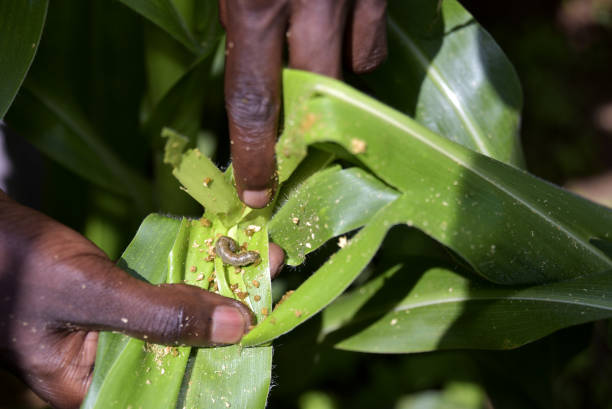Armyworm: (212, 226, 268, 282)
